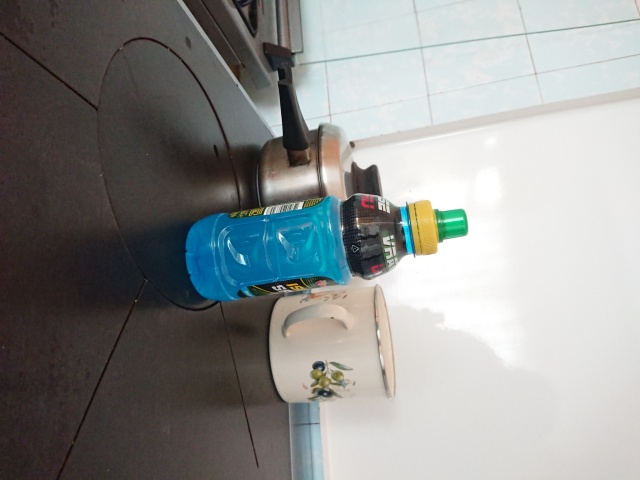Vindi Iso Sport Forest Strawberries 500mL: (183, 190, 469, 303)
